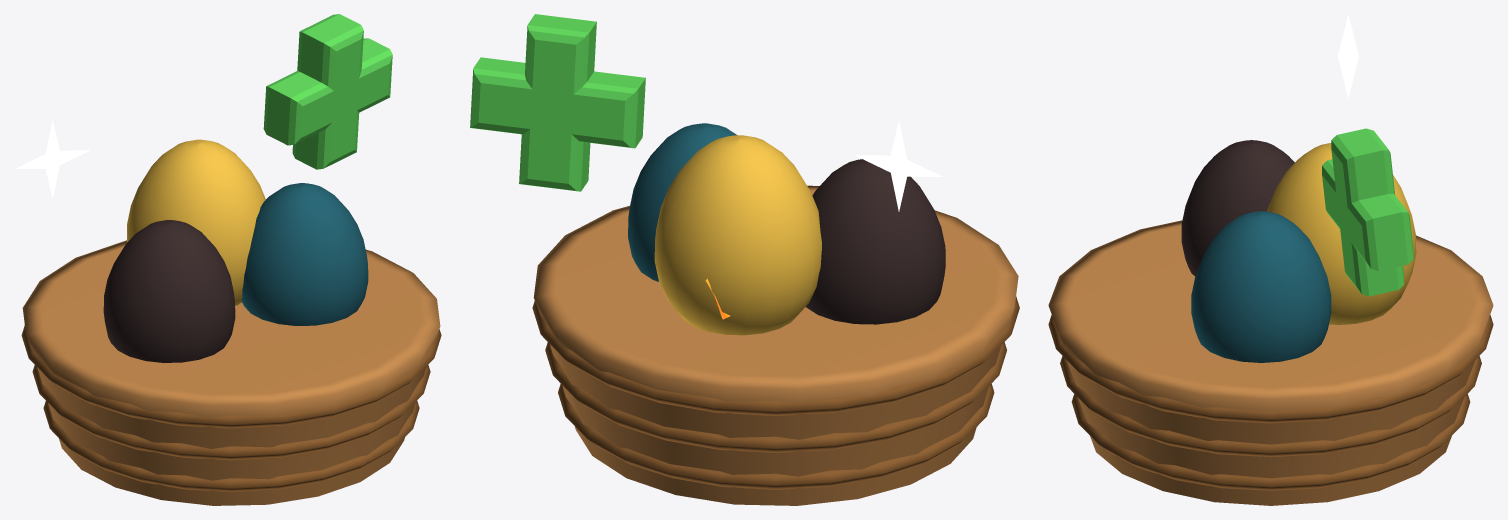
File: PassExtraCarry.glb
3 renders of one model, left to right at view 1: azimuth 30°, elevation 25°; view 2: azimuth 150°, elevation 25°; view 3: azimuth 270°, elevation 25°, orthographic. The views are drawn at different scales.
Parts seen in each view (by area): view 1: Body, Glow; view 2: Body, Glow; view 3: Body, Glow.
Part boxes in pixels (x1,y1,x2,y2): Body: (21, 14, 441, 505); Glow: (15, 120, 90, 198); Body: (470, 14, 1019, 505); Glow: (855, 120, 942, 211); Body: (1048, 128, 1493, 505); Glow: (1338, 14, 1358, 98).
Size of the model in its own units: 2.46 by 2.06 by 2.3.
3 materials, 1 textured.
